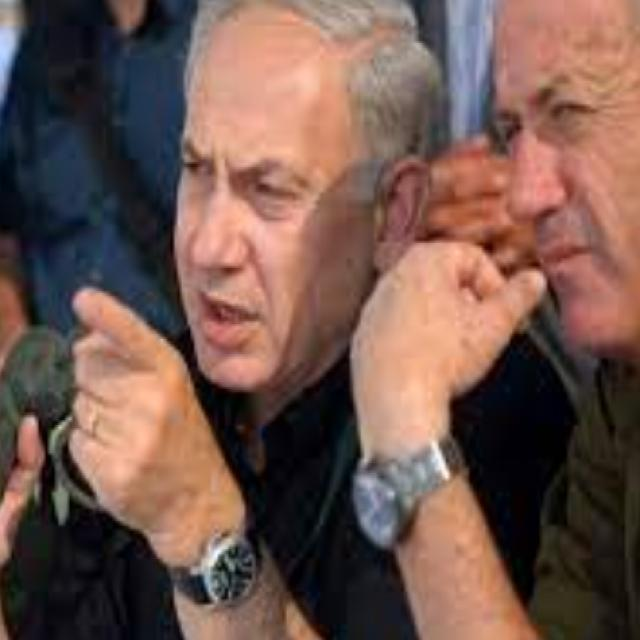Watch: (349, 433, 466, 551), (176, 512, 264, 614)
